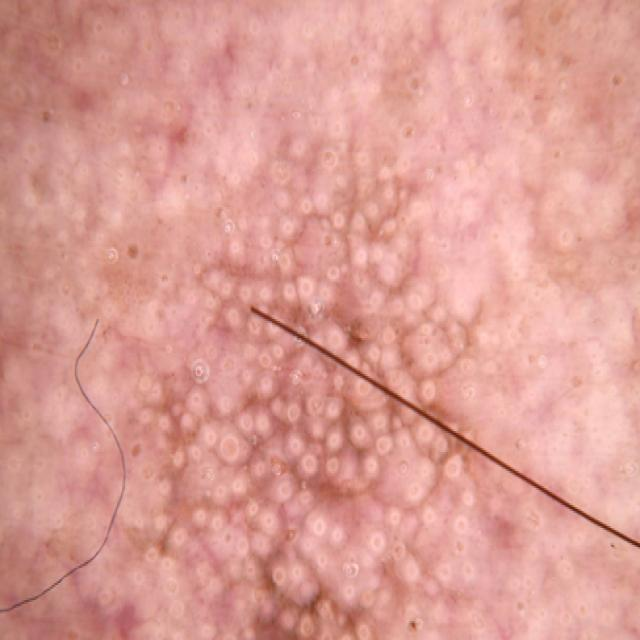Keratosis: (134, 112, 493, 640)
